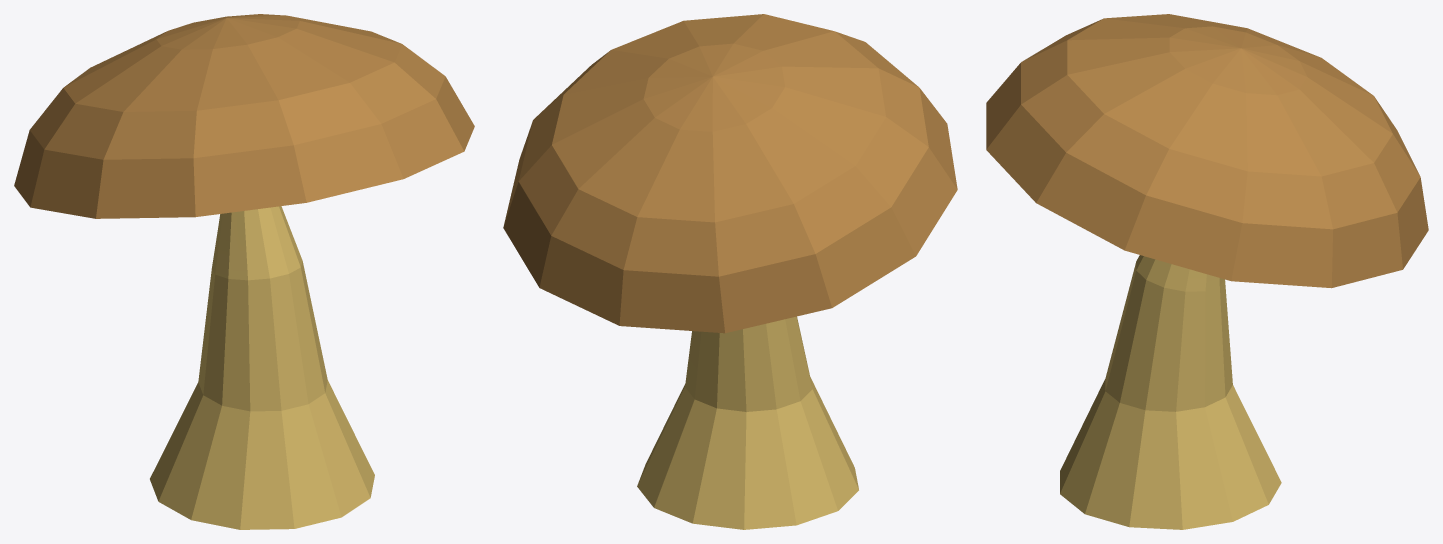
File: Champignon_plaine.fbx
3 views of the same model, side by side, from view 1: azimuth 30°, elevation 25°; view 2: azimuth 150°, elevation 25°; view 3: azimuth 270°, elevation 25° (orthographic).
Visible parts, largest first — view 1: Cylinder; view 2: Cylinder; view 3: Cylinder.
Boxes of the visible parts, <box> form: Cylinder: <box>14,14,474,529</box>; Cylinder: <box>503,14,957,529</box>; Cylinder: <box>986,14,1428,529</box>.
Bounding box in the file's own units: 205 × 215 × 197.
